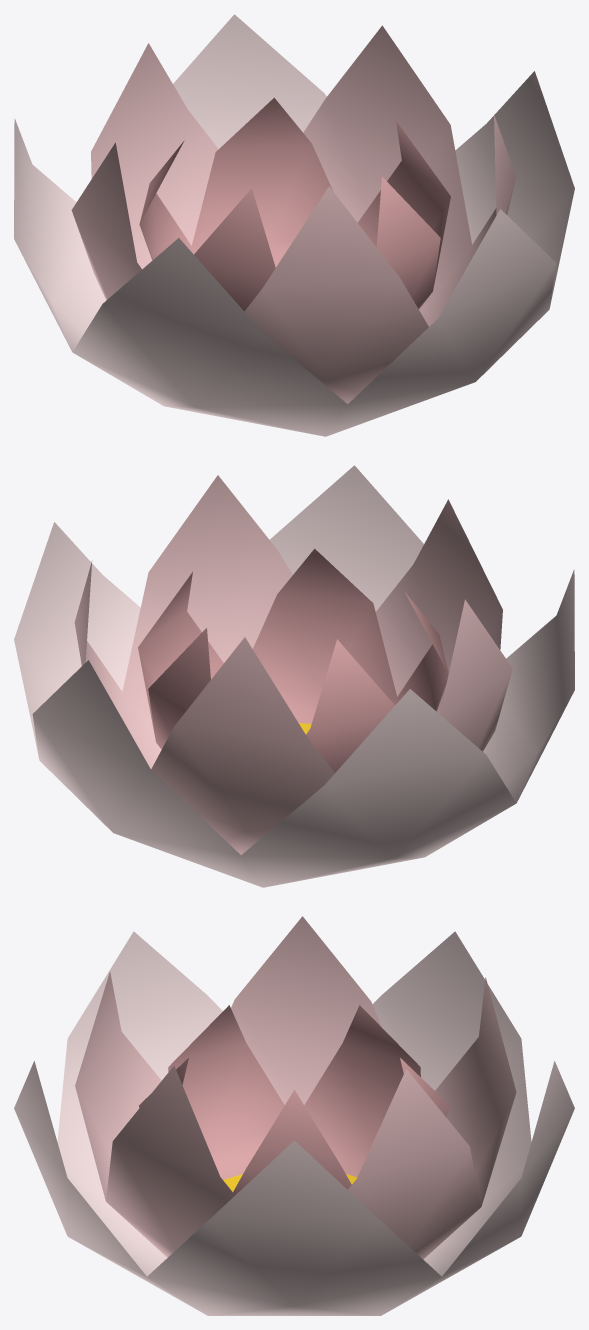
Rendered from lilypadLightPink.glb.
The picture shows the model from 3 angles, top to bottom: view 1: azimuth 30°, elevation 25°; view 2: azimuth 150°, elevation 25°; view 3: azimuth 270°, elevation 25°; orthographic projection. The views are drawn at different scales.
Parts seen in each view (by area): view 1: LilyPadLightPink; view 2: LilyPadLightPink; view 3: LilyPadLightPink.
Part boxes in pixels (box(x1,y1,x2,y2)): LilyPadLightPink: box(14, 14, 574, 436); LilyPadLightPink: box(14, 465, 574, 887); LilyPadLightPink: box(14, 916, 574, 1315).
Size of the model in its own units: 0.7204 by 0.3929 by 0.751.
Materials: 2 (2 with a texture image).
